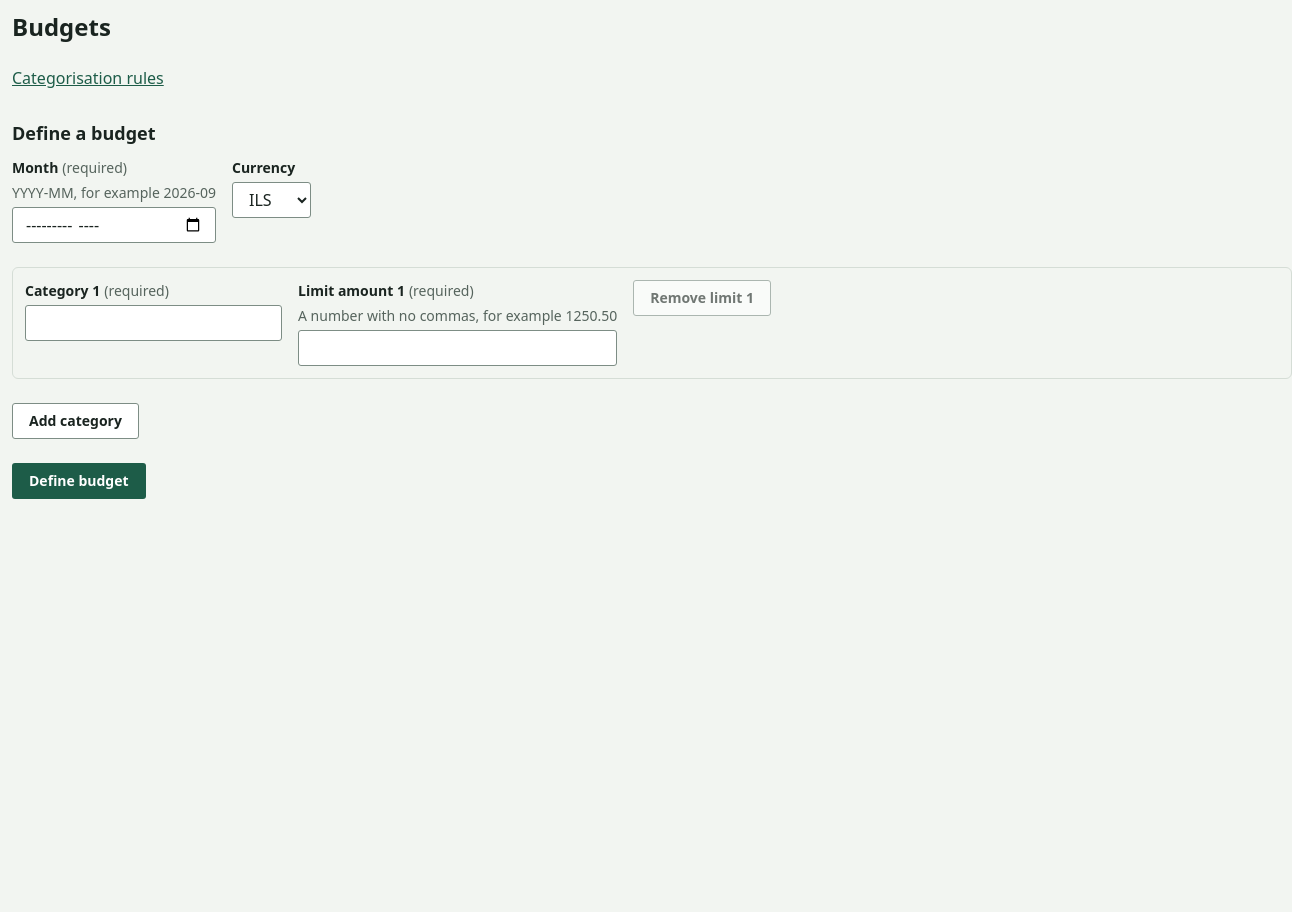
Test: BudgetsPage defining a budget › Given_a_rule_the_domain_refuses_When_defined_Then_its_detail_is_shown_in_an_error_state
Type "2026-09" into the field labelled "Month" at (114, 224), box [12, 206, 216, 242]
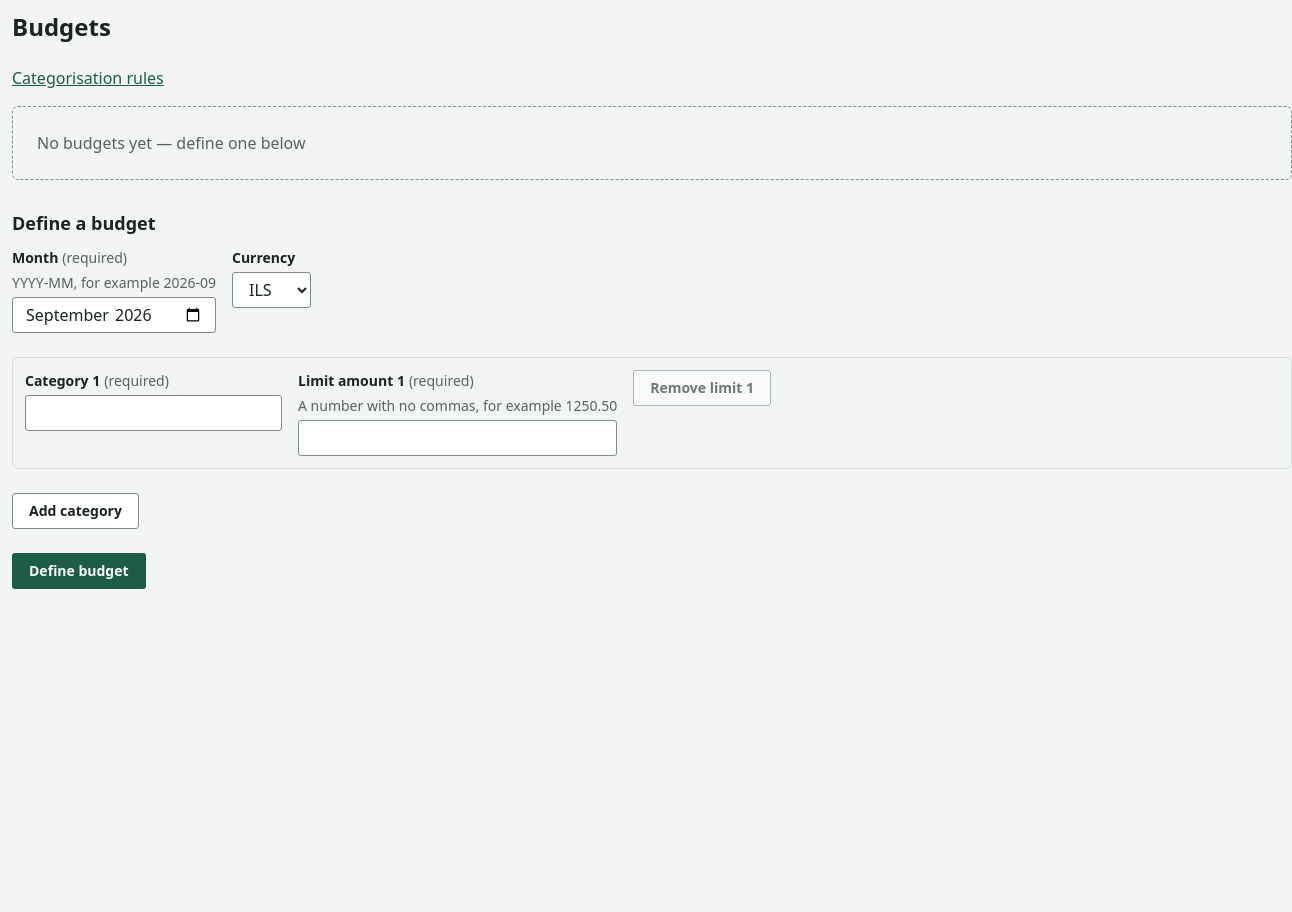
Select "ILS" in the dropdown labelled "Currency" at (272, 290), box [232, 272, 311, 308]
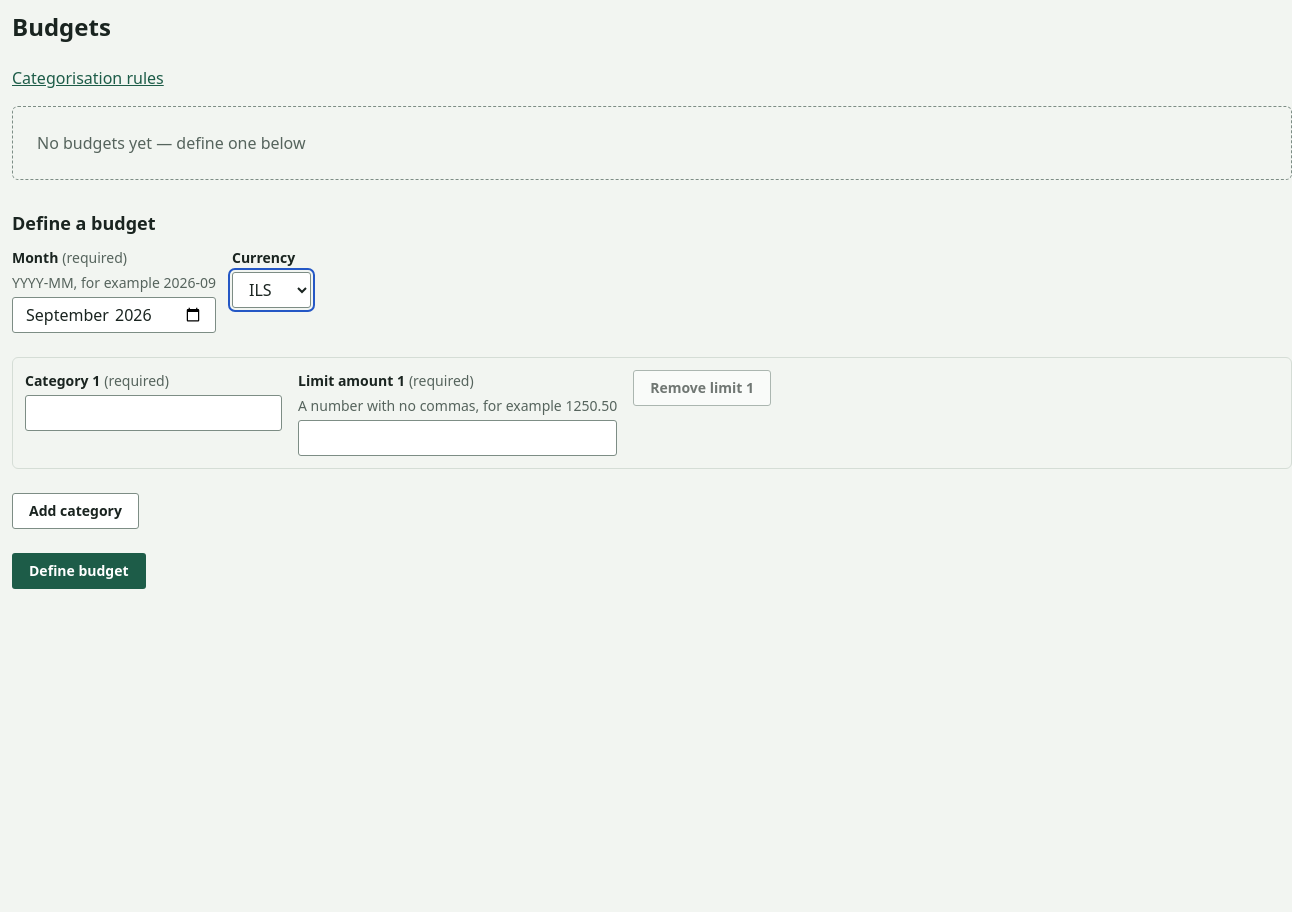
Type "groceries" into the field labelled "Category 1" at (154, 412), box [25, 394, 282, 430]
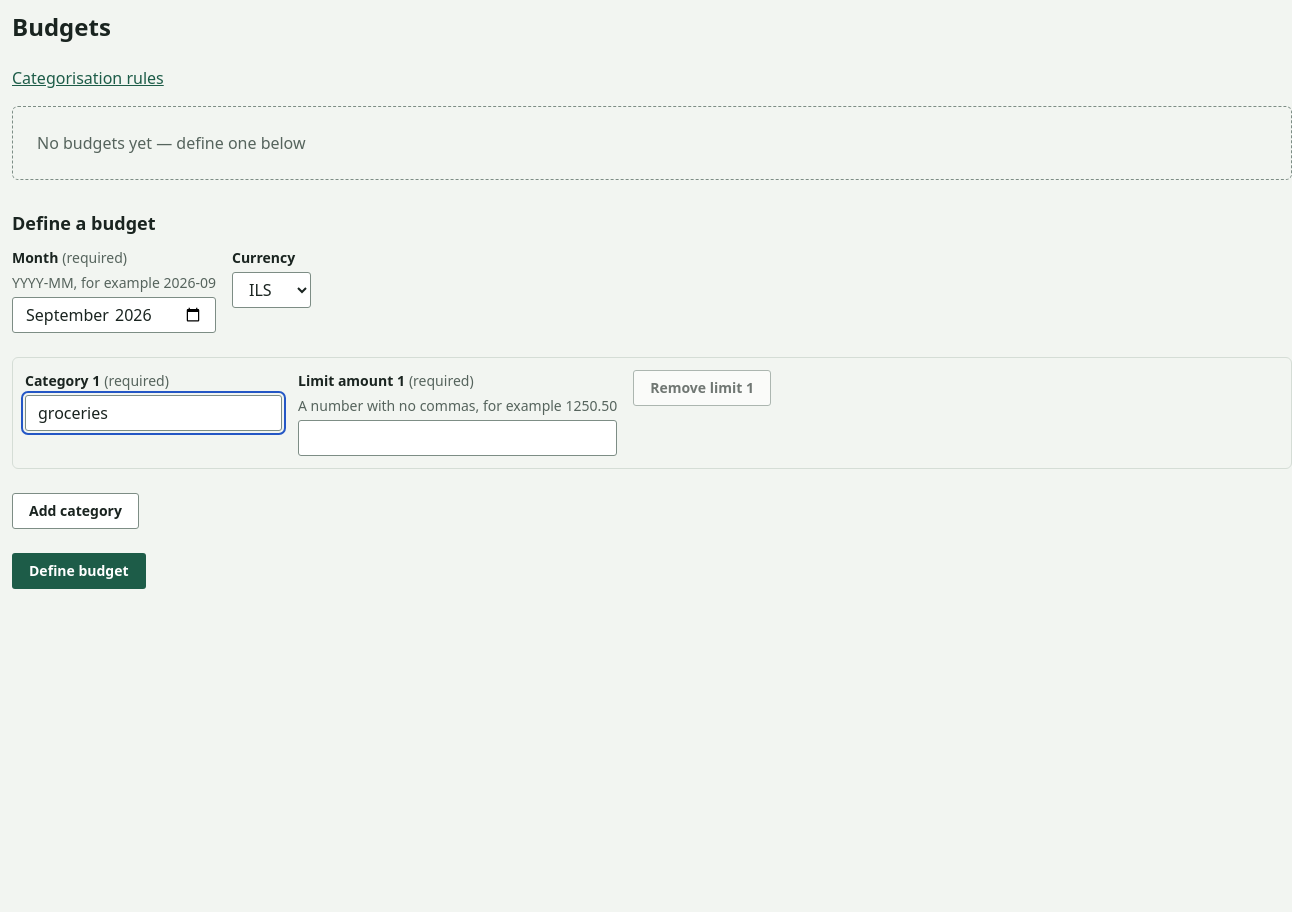
Type "1000.00" into the field labelled "Limit amount 1" at (458, 438), box [298, 420, 617, 456]
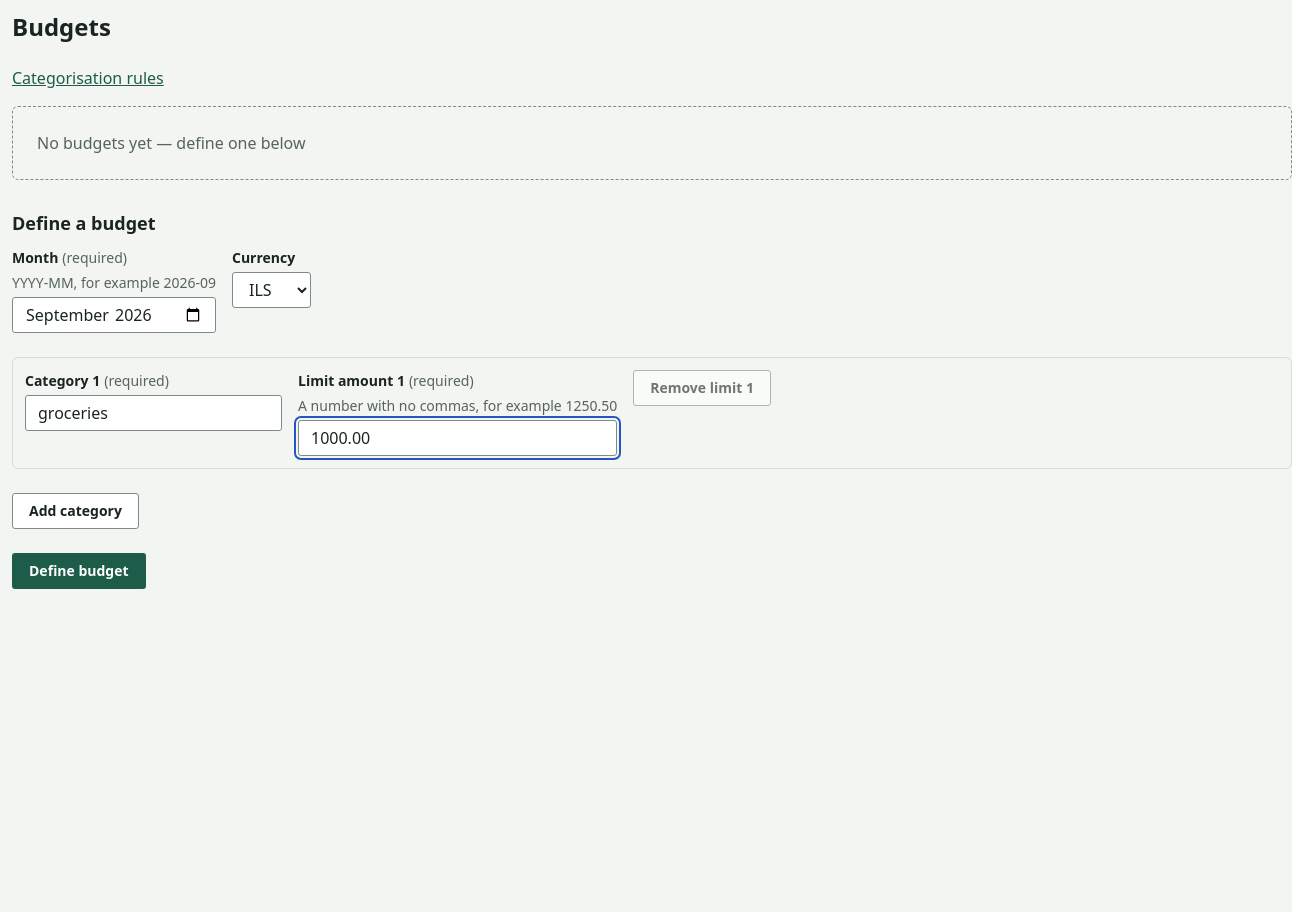
Click the button "Define budget" at (79, 570), box [12, 552, 146, 588]
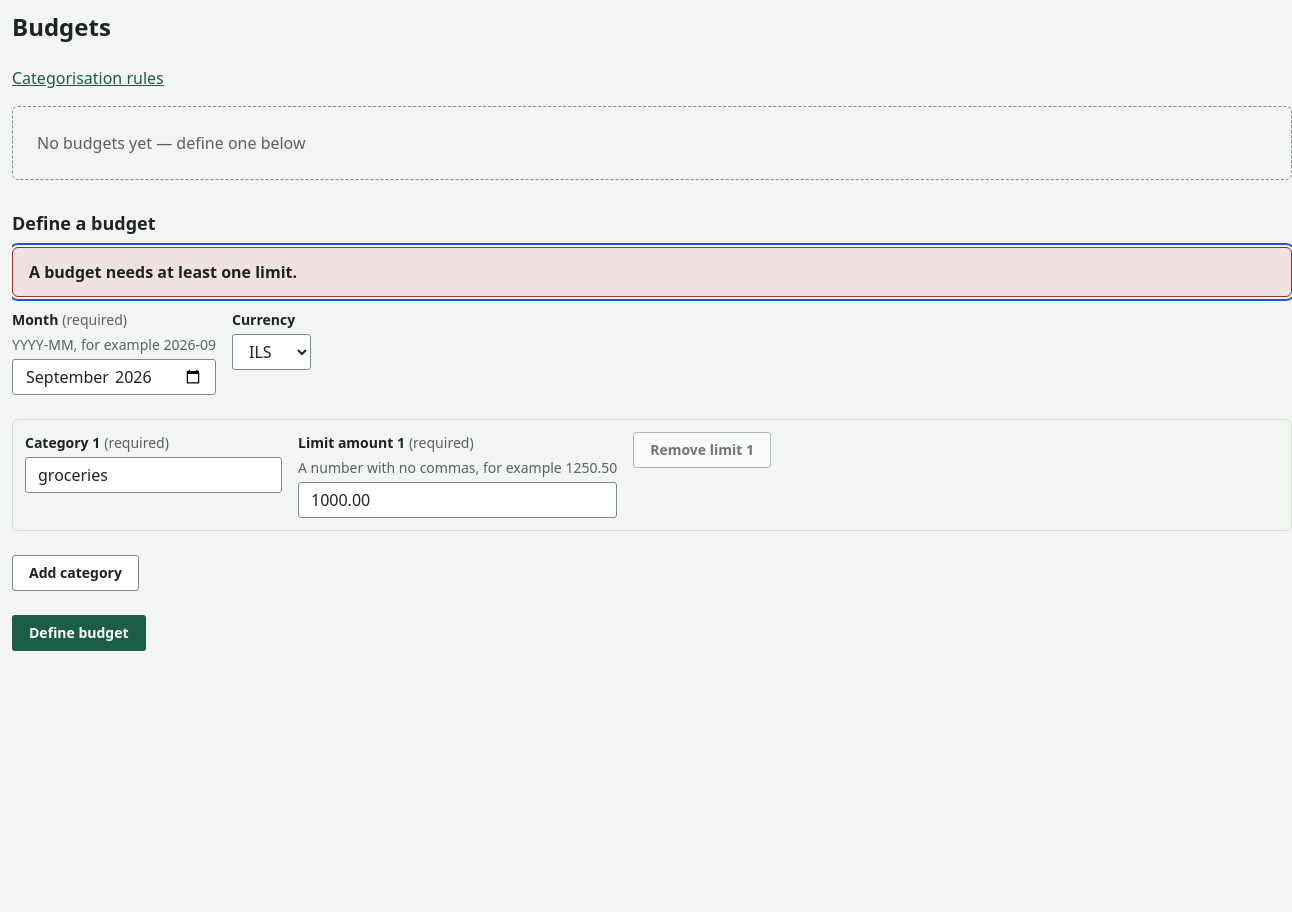
Now the text "A budget needs at least one limit." is shown, box [29, 260, 297, 282]
